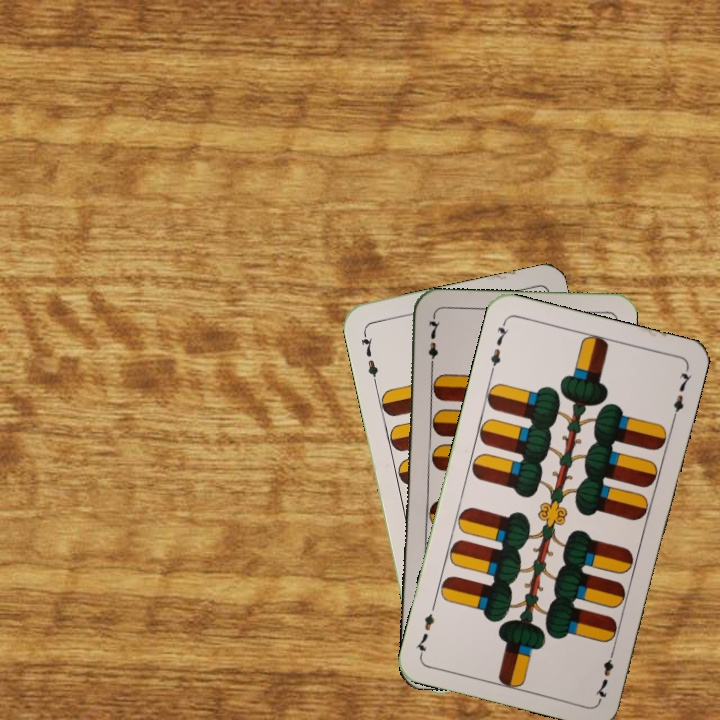E7: (591, 644, 618, 702), (486, 317, 511, 376), (357, 327, 381, 386), (424, 314, 442, 373)
